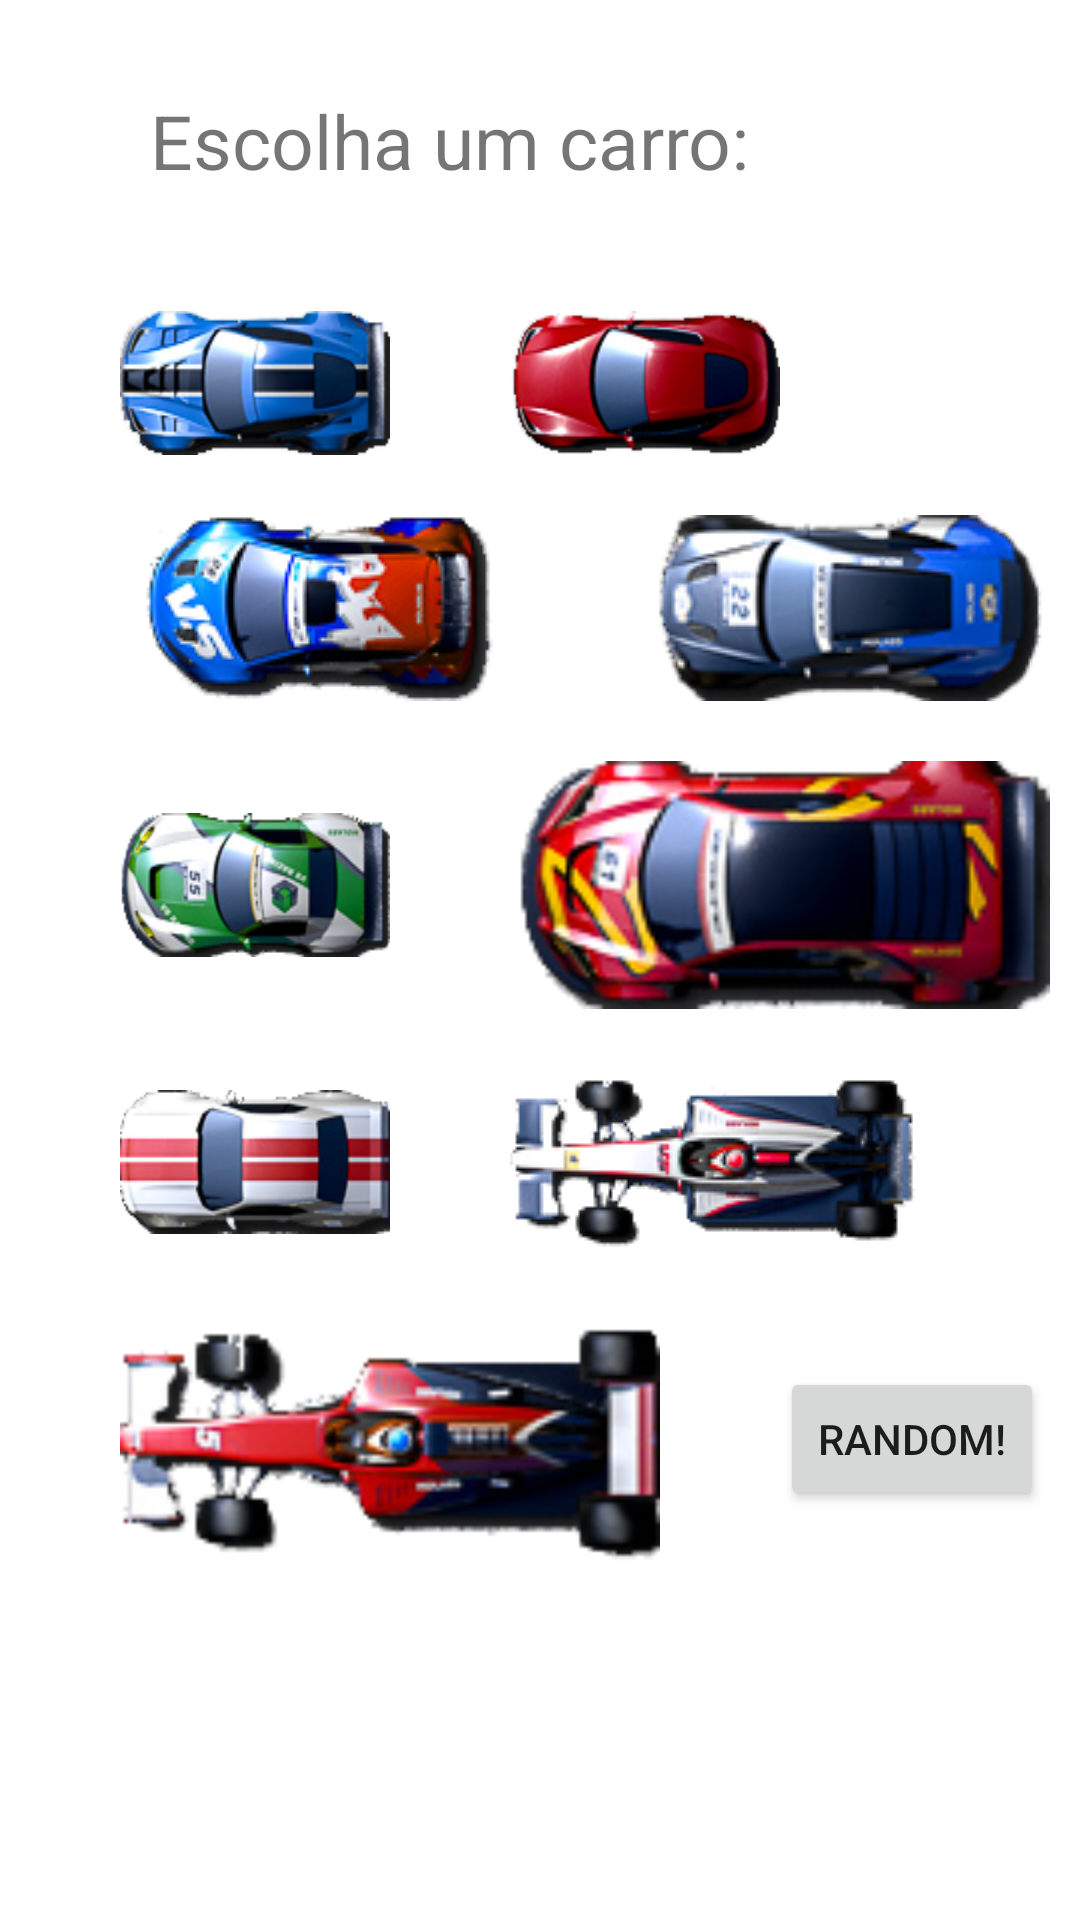

Named icons in this screenshot (1080*1920) and their centers, [x,y]:
bluered car: [319,609]
greenwhite car: [255,885]
